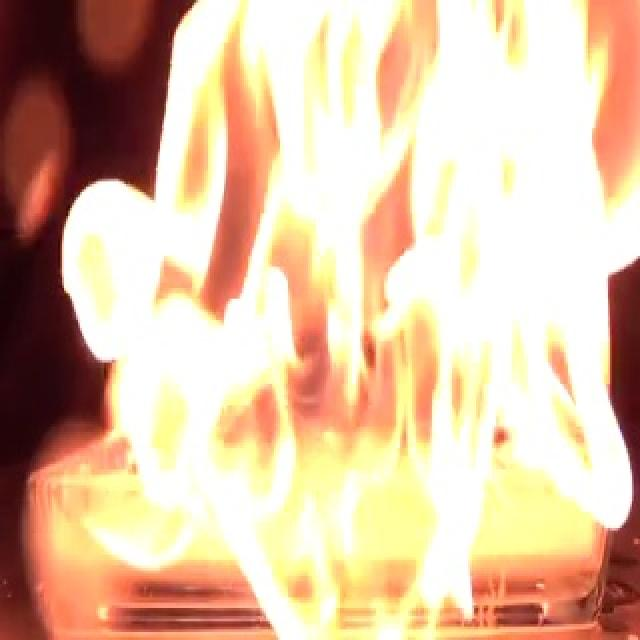fire: (43, 2, 640, 640)
